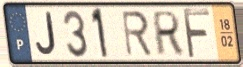1: (90, 6, 110, 61)
3: (61, 8, 90, 59)
F: (181, 6, 212, 61)
J: (35, 11, 58, 57)
R: (120, 9, 155, 59), (152, 10, 184, 58)
